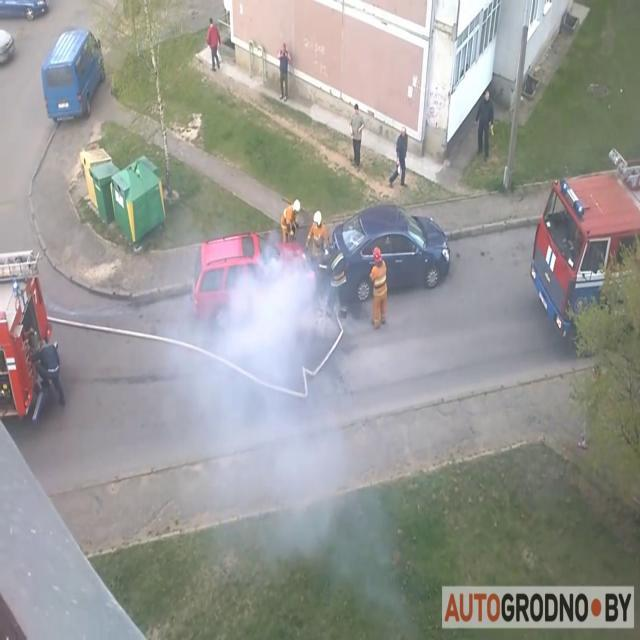Smoke: (154, 230, 412, 616)
